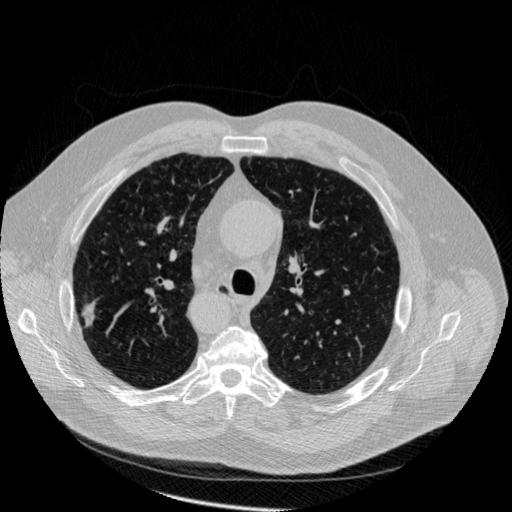nodule: (81, 307, 102, 328)
